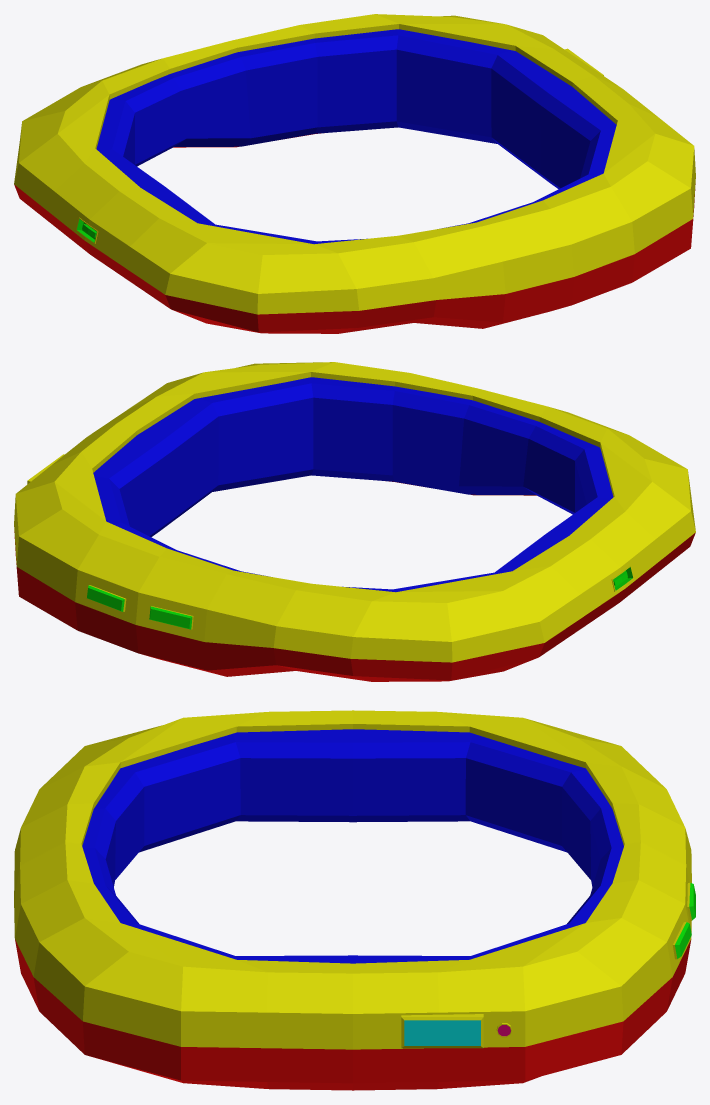
The model's file is Dreamheadband-2.fbx.
3 renders of one model, top to bottom at view 1: azimuth 30°, elevation 25°; view 2: azimuth 150°, elevation 25°; view 3: azimuth 270°, elevation 25°, orthographic. The views are drawn at different scales.
Parts seen in each view (by area): view 1: Frame; view 2: Frame; view 3: Frame.
Part boxes in pixels (left/top/right/bottom): Frame: left=14, top=14, right=695, bottom=333; Frame: left=14, top=362, right=695, bottom=681; Frame: left=14, top=710, right=695, bottom=1090.
Bounding box in the file's own units: 29.74 × 31.01 × 5.62.
